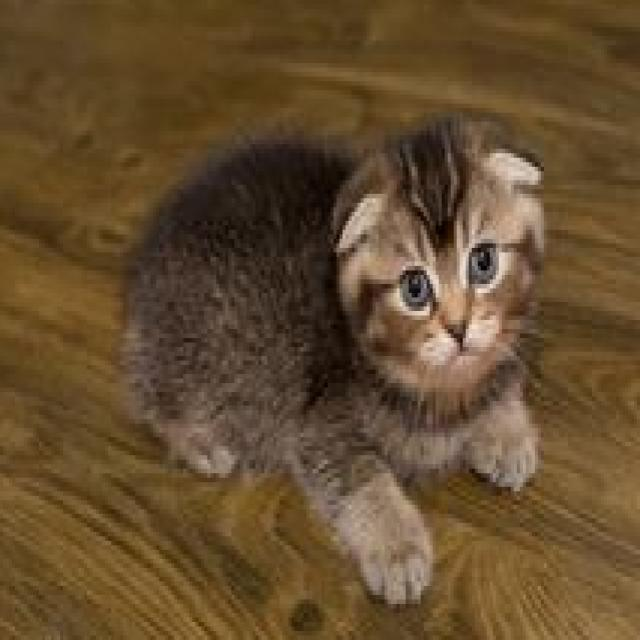Scottish Fold: (114, 113, 551, 614)
